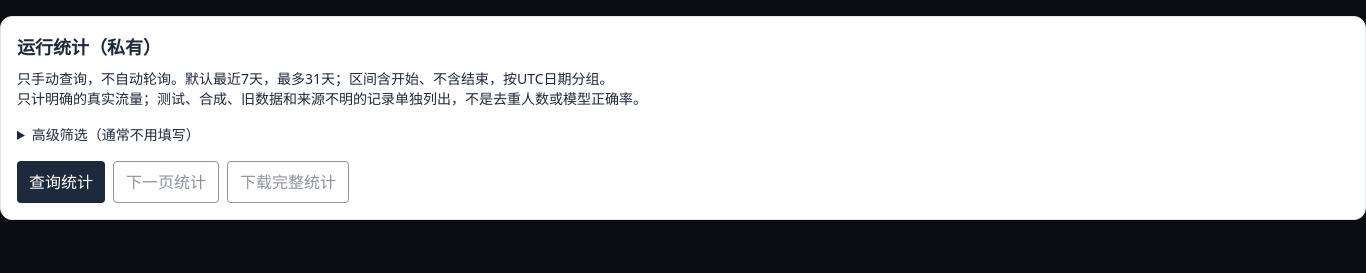
Test: safe recoverable HTTP error 401 never echoes raw detail
Step 1. Click the button "查询统计" → (61, 182), box [17,161,105,203]
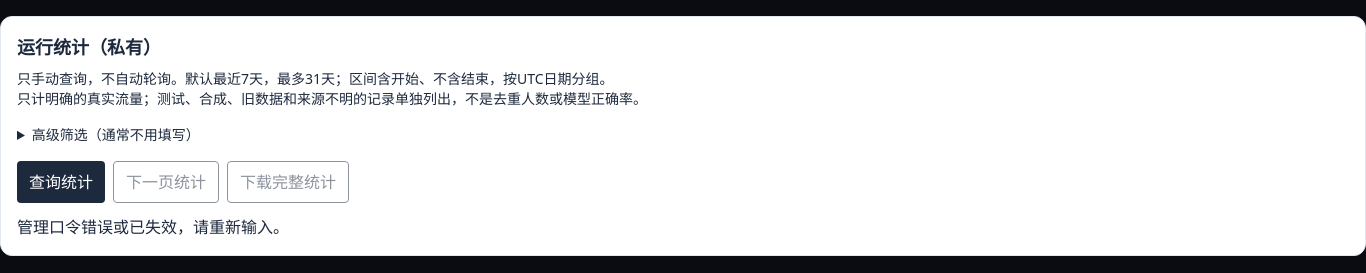
Check: the message "管理口令错误或已失效，请重新输入。" is shown, box [17,216,289,238]
